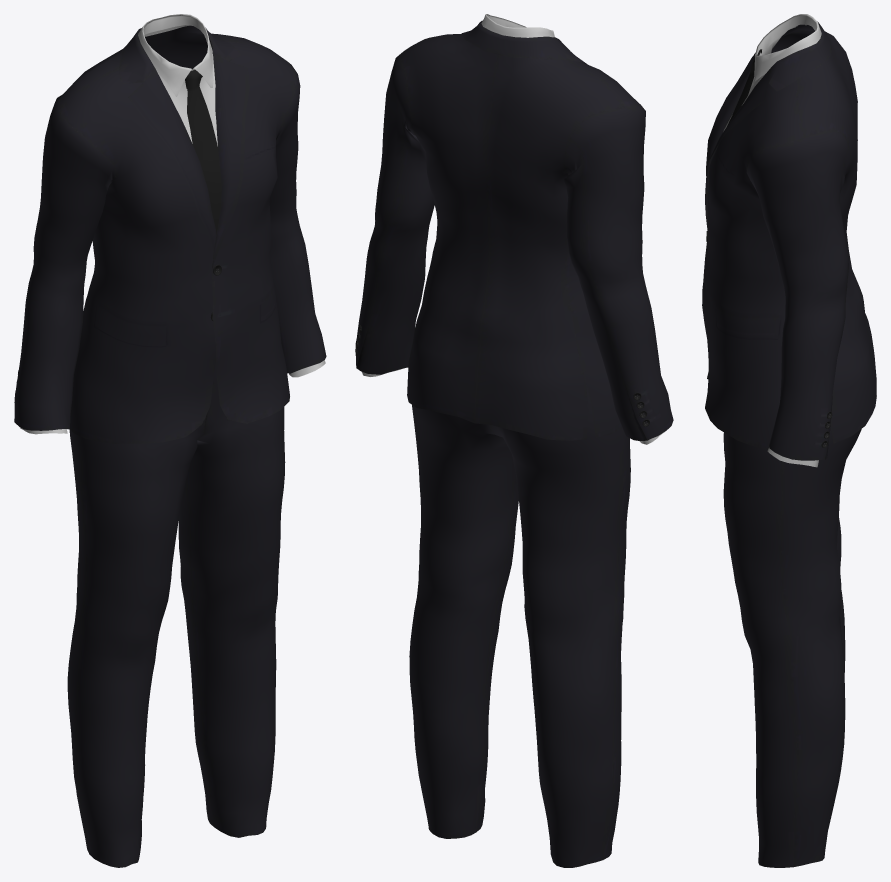
File: suit.glb
3 renders of one model, left to right at view 1: azimuth 30°, elevation 25°; view 2: azimuth 150°, elevation 25°; view 3: azimuth 270°, elevation 25°, orthographic. The views are drawn at different scales.
Parts seen in each view (by area): view 1: m_suit_01Mesh_0; view 2: m_suit_01Mesh_0; view 3: m_suit_01Mesh_0.
Boxes of the visible parts, bbox=[...] form: m_suit_01Mesh_0: bbox=[14, 14, 326, 867]; m_suit_01Mesh_0: bbox=[355, 14, 673, 867]; m_suit_01Mesh_0: bbox=[702, 14, 876, 867].
Bounding box in the file's own units: 53.86 × 140 × 27.39.
1 material, 1 textured.
